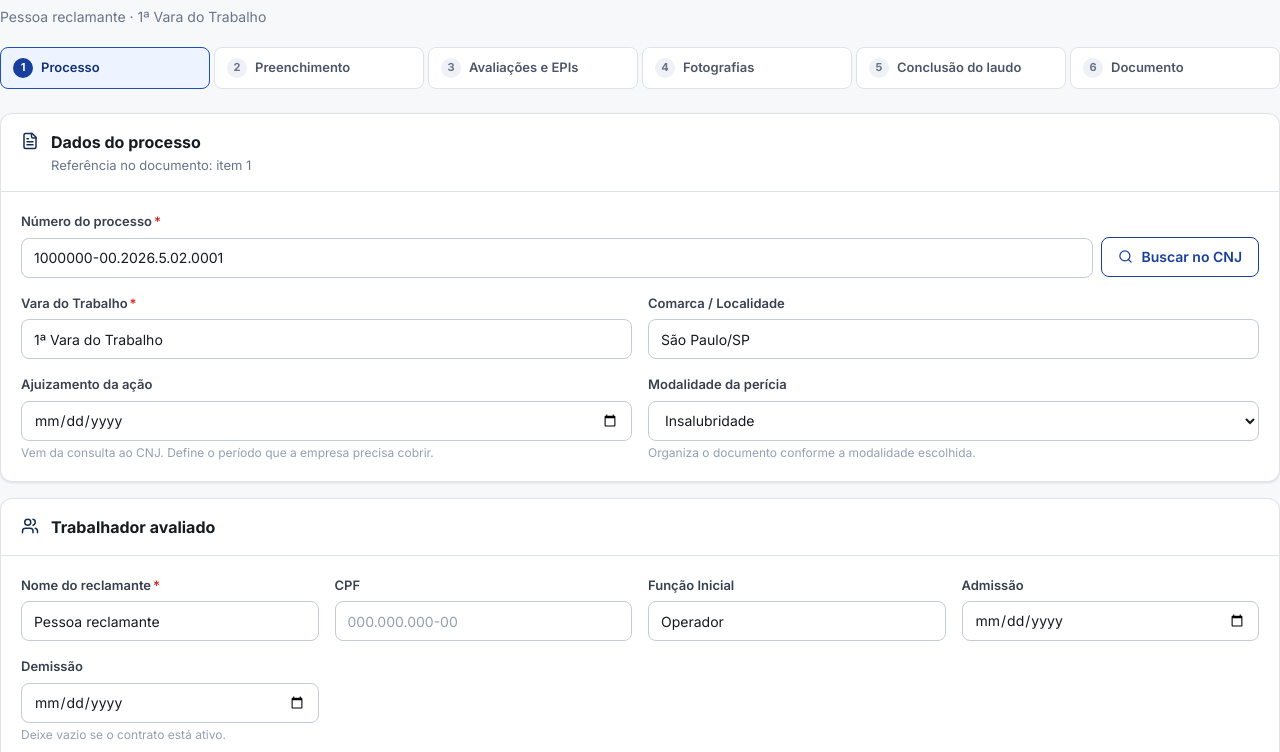
Test: PericiaEditor — concluir a etapa das avaliações › leva ao campo da eficácia do EPI, reabre o cartão recolhido e aceita "Não" como resposta
Click the button "3 Avaliações e EPIs". click: coordinates (533, 68)
box: [428,46,638,88]
(page scrolled)
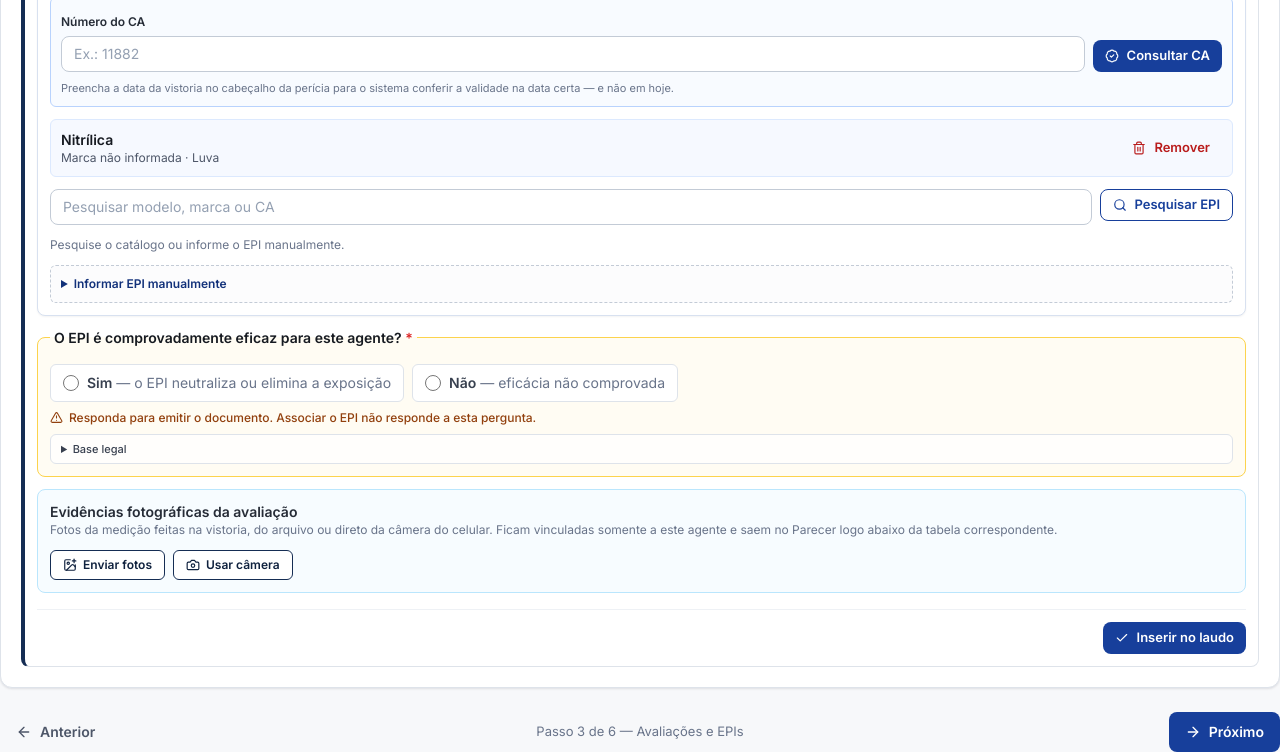
Click the button "Inserir no laudo". click: coordinates (1174, 638)
box: [1102,622,1246,654]
(page scrolled)
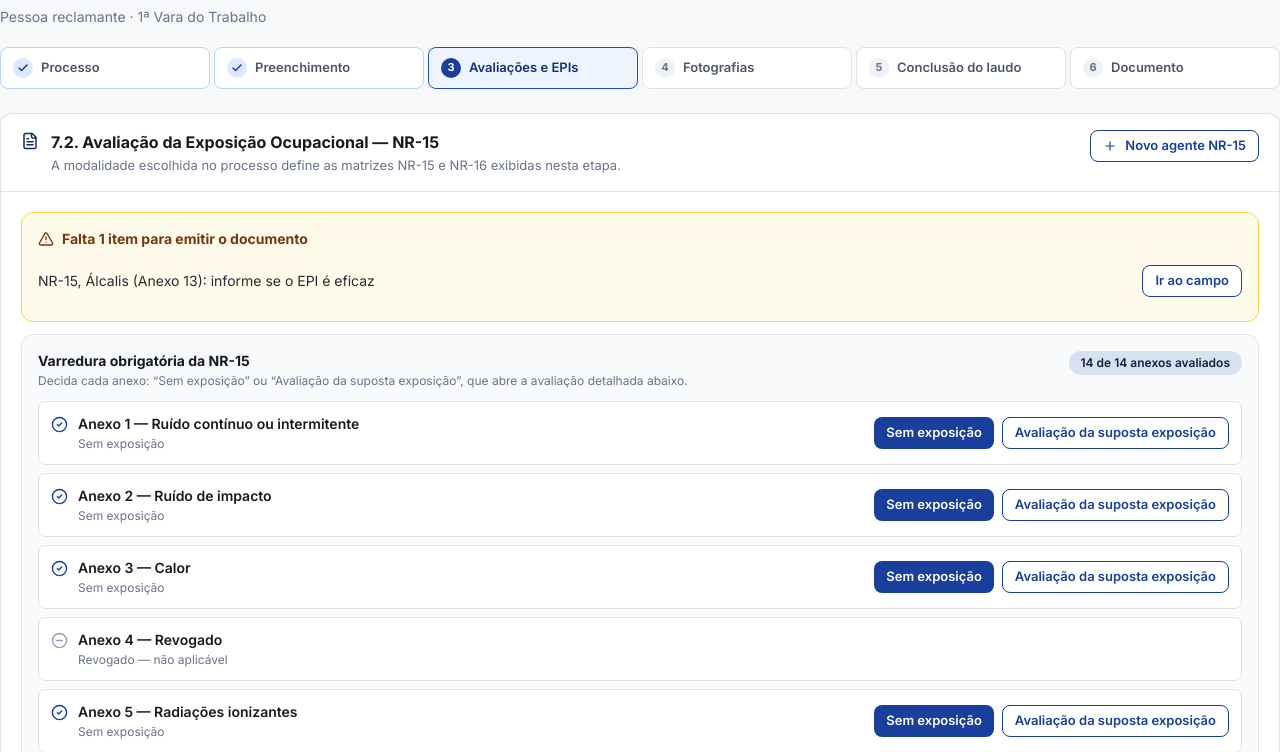
Click the button "Ir ao campo". click: coordinates (1192, 281)
box: [1142,265,1242,297]
(page scrolled)
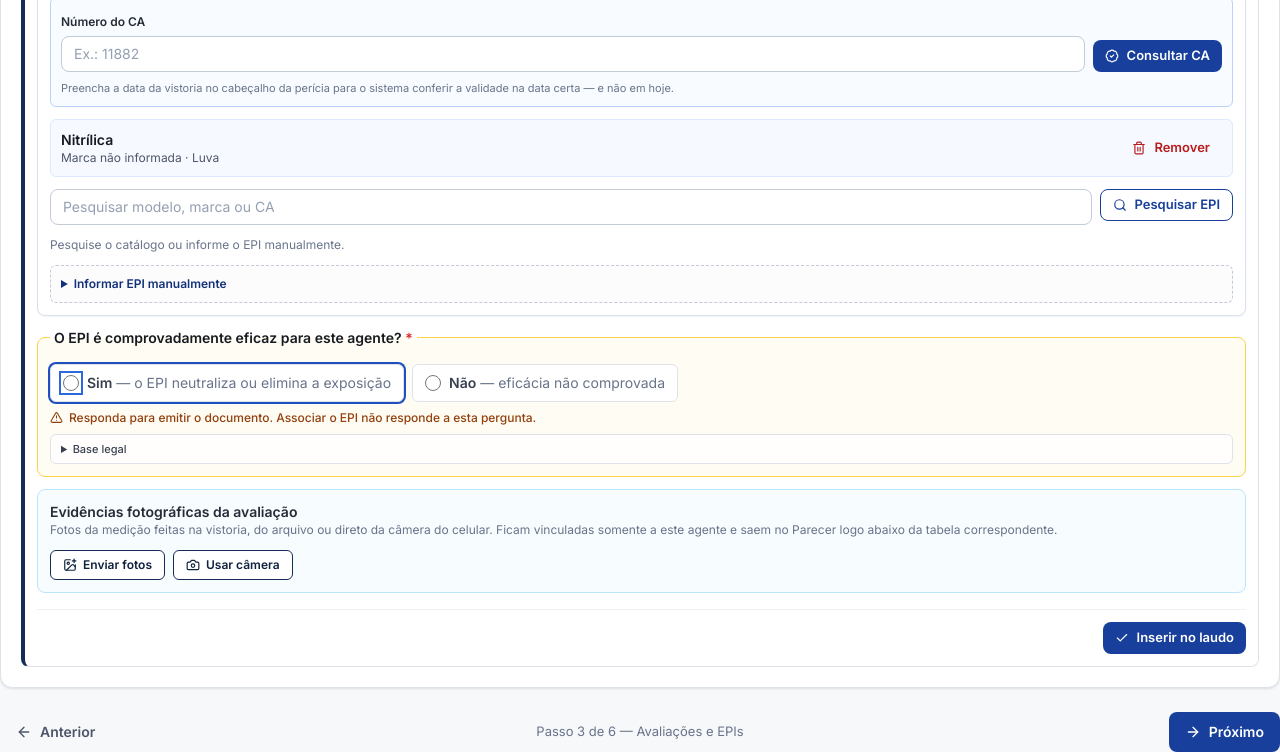
Click the radio button labelled "Não — eficácia não comprovada". click: coordinates (433, 382)
box: [425,374,441,390]
(page scrolled)
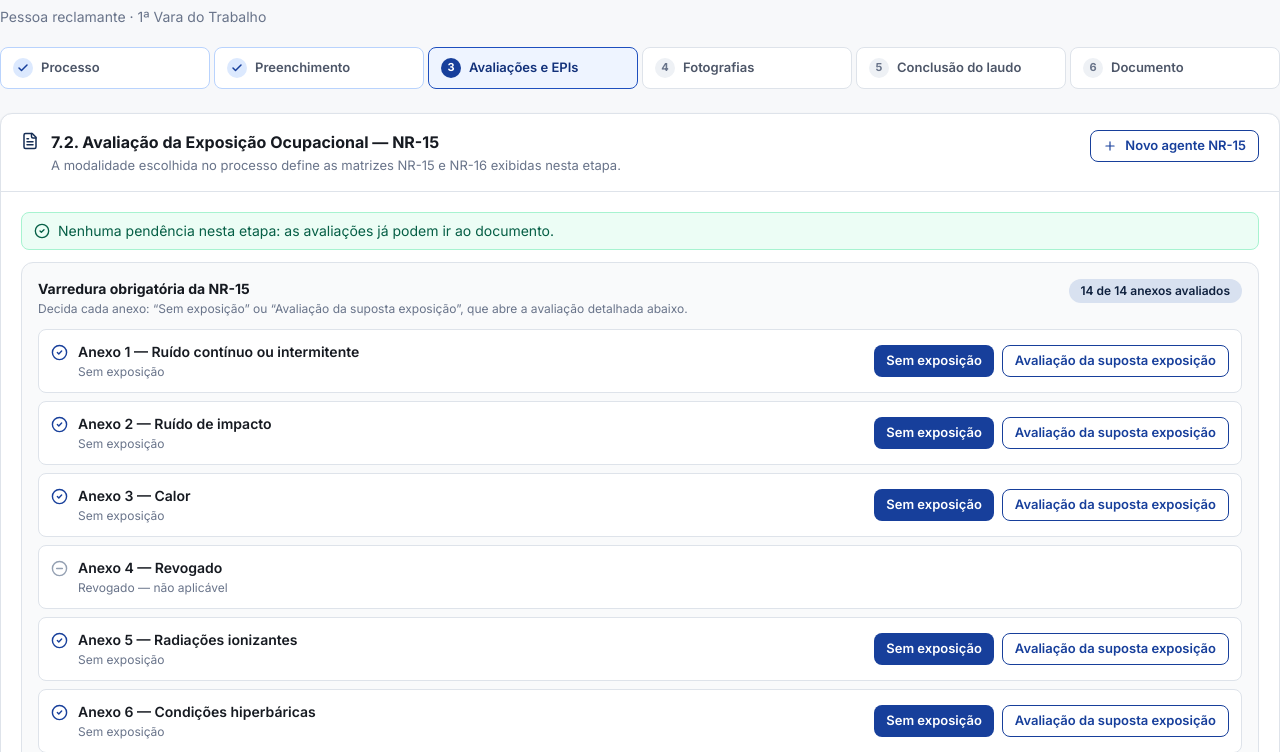
Expected: the text "Nenhuma pendência nesta etapa" is shown, [58,222,554,239]
